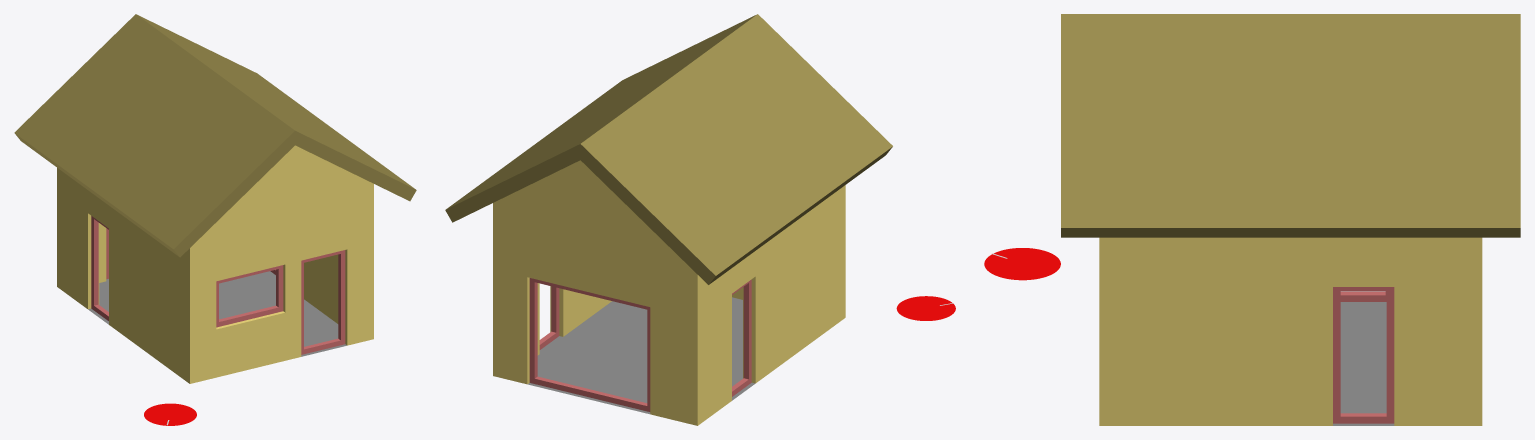
Rendered from result.glb.
3 renders of one model, left to right at view 1: azimuth 30°, elevation 25°; view 2: azimuth 150°, elevation 25°; view 3: azimuth 270°, elevation 25°, orthographic. The views are drawn at different scales.
Parts seen in each view (by area): view 1: 964881a7-3fcd-4737-8a34-b1d908f07378__undefined, 8e4106e5-fbe4-43b1-a28b-6b339a5bed87__undefined (×2), 49c13864-0647-4cc3-910f-4661a1e0be8a__Plane_6, bd183300-77f0-4c58-a6ca-f6dde0c7e018__Box, e12bd87d-6601-4731-b2dc-1f2ad45b79bd__Box_3, dc914976-c7b9-4f76-b177-77e71f640bd0__Circle, 05c34196-0164-405a-823b-85a674debfa8__Box_12; view 2: 8e4106e5-fbe4-43b1-a28b-6b339a5bed87__undefined (×2), 964881a7-3fcd-4737-8a34-b1d908f07378__undefined, 49c13864-0647-4cc3-910f-4661a1e0be8a__Plane_6, e226ac45-6325-4a36-b5e9-92c8779fe690__Box_9, dc914976-c7b9-4f76-b177-77e71f640bd0__Circle, 05c34196-0164-405a-823b-85a674debfa8__Box_12, 1b295970-90ed-4fdd-8cb6-5a2e0dc979d8__Box_15; view 3: 8e4106e5-fbe4-43b1-a28b-6b339a5bed87__undefined, 964881a7-3fcd-4737-8a34-b1d908f07378__undefined, 49c13864-0647-4cc3-910f-4661a1e0be8a__Plane_6, 1b295970-90ed-4fdd-8cb6-5a2e0dc979d8__Box_15, dc914976-c7b9-4f76-b177-77e71f640bd0__Circle.
Part boxes in pixels (box(x1,y1,x2,y2)): 964881a7-3fcd-4737-8a34-b1d908f07378__undefined: box(57, 145, 373, 383); 8e4106e5-fbe4-43b1-a28b-6b339a5bed87__undefined (×2): box(14, 14, 416, 257); 49c13864-0647-4cc3-910f-4661a1e0be8a__Plane_6: box(88, 271, 346, 356); bd183300-77f0-4c58-a6ca-f6dde0c7e018__Box: box(301, 250, 345, 354); e12bd87d-6601-4731-b2dc-1f2ad45b79bd__Box_3: box(216, 265, 283, 327); dc914976-c7b9-4f76-b177-77e71f640bd0__Circle: box(144, 403, 196, 425); 05c34196-0164-405a-823b-85a674debfa8__Box_12: box(91, 216, 108, 320); 8e4106e5-fbe4-43b1-a28b-6b339a5bed87__undefined (×2): box(445, 14, 892, 284); 964881a7-3fcd-4737-8a34-b1d908f07378__undefined: box(493, 160, 845, 425); 49c13864-0647-4cc3-910f-4661a1e0be8a__Plane_6: box(527, 297, 755, 414); e226ac45-6325-4a36-b5e9-92c8779fe690__Box_9: box(529, 278, 650, 411); dc914976-c7b9-4f76-b177-77e71f640bd0__Circle: box(896, 296, 955, 320); 05c34196-0164-405a-823b-85a674debfa8__Box_12: box(732, 279, 751, 396); 1b295970-90ed-4fdd-8cb6-5a2e0dc979d8__Box_15: box(539, 286, 559, 349); 8e4106e5-fbe4-43b1-a28b-6b339a5bed87__undefined: box(1061, 14, 1520, 237); 964881a7-3fcd-4737-8a34-b1d908f07378__undefined: box(1099, 237, 1482, 425); 49c13864-0647-4cc3-910f-4661a1e0be8a__Plane_6: box(1333, 302, 1394, 425); 1b295970-90ed-4fdd-8cb6-5a2e0dc979d8__Box_15: box(1333, 287, 1394, 423); dc914976-c7b9-4f76-b177-77e71f640bd0__Circle: box(984, 248, 1060, 280).
Bounding box in the file's own units: 614 × 500 × 700.
